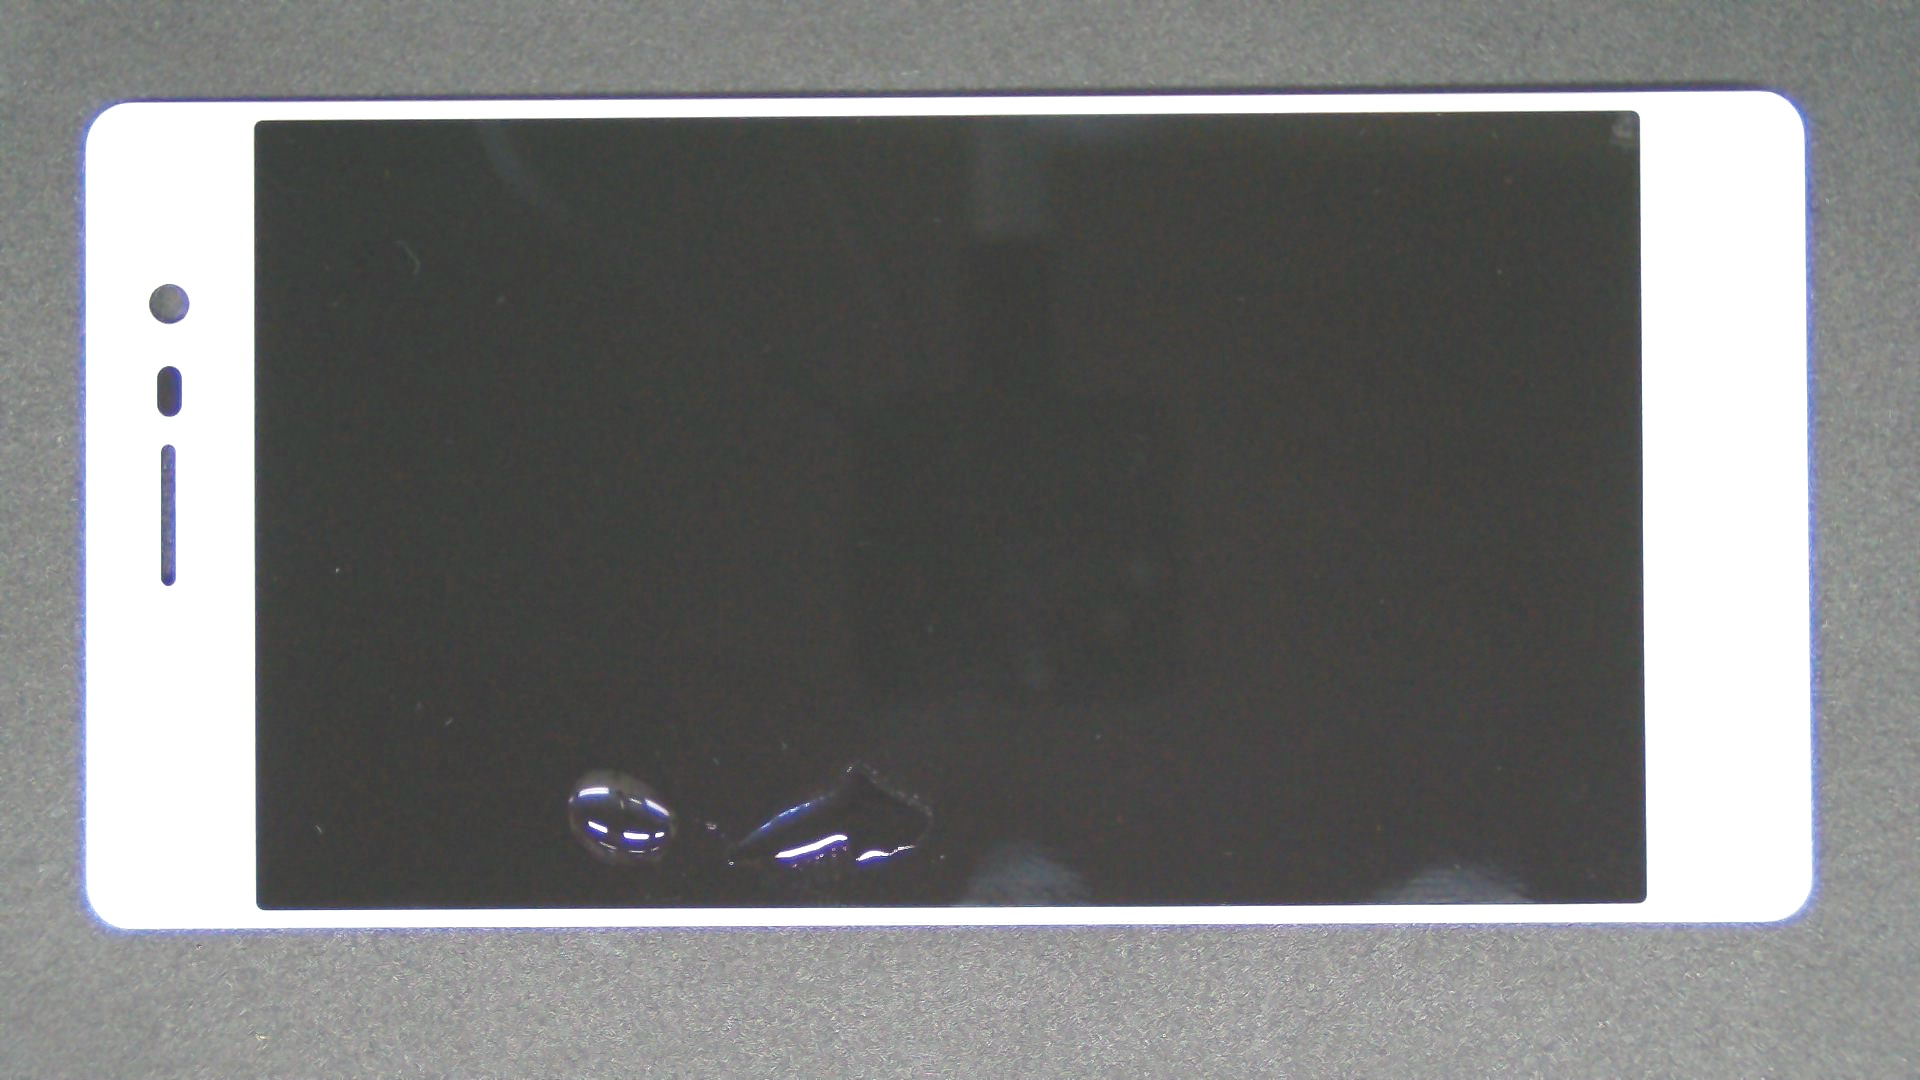oil: (429, 380, 1284, 1080), (355, 410, 1062, 1080), (298, 385, 891, 1080)
